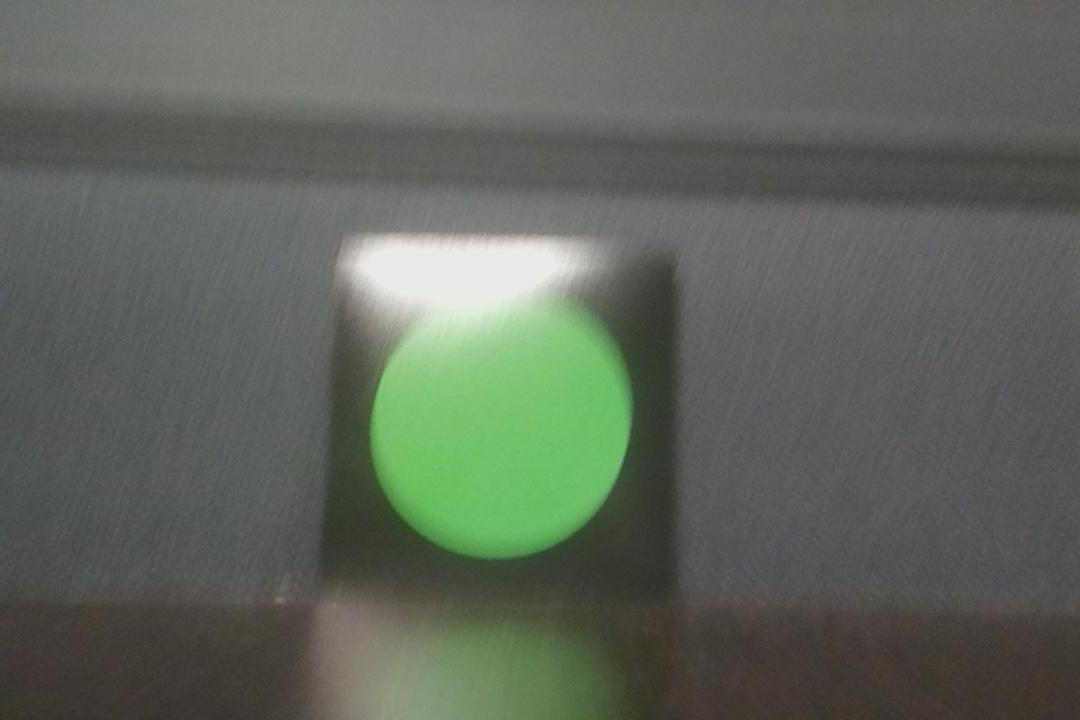go: (340, 242, 665, 594)
